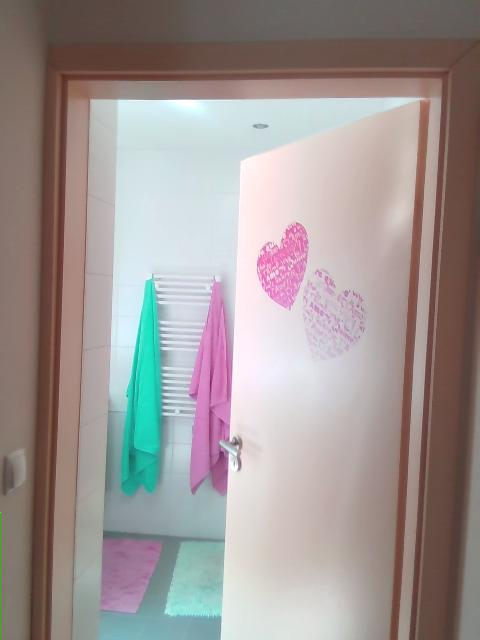semi_door: (30, 37, 479, 639)
